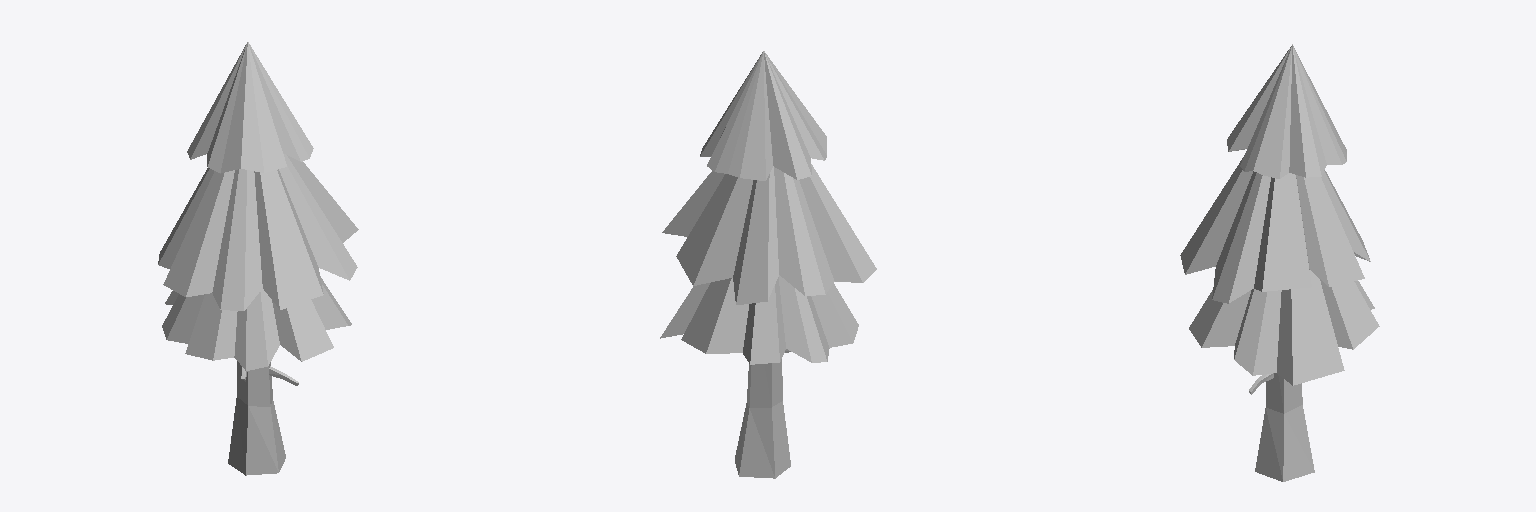
File: Forest_A_FirTree_21.obj
3 renders of one model, left to right at view 1: azimuth 30°, elevation 25°; view 2: azimuth 150°, elevation 25°; view 3: azimuth 270°, elevation 25°, orthographic.
Visible parts, largest first — view 1: Forest_A_FirTree_21; view 2: Forest_A_FirTree_21; view 3: Forest_A_FirTree_21.
Boxes of the visible parts, x1,y1,x2,y2 form: Forest_A_FirTree_21: [158, 42, 358, 475]; Forest_A_FirTree_21: [660, 51, 876, 478]; Forest_A_FirTree_21: [1180, 44, 1379, 481].
Bounding box in the file's own units: 162 × 348 × 149.